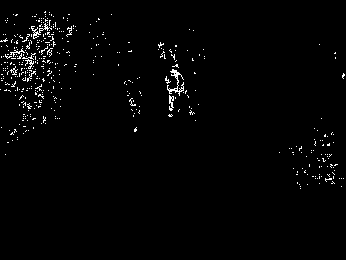person: (165, 63, 185, 119)
